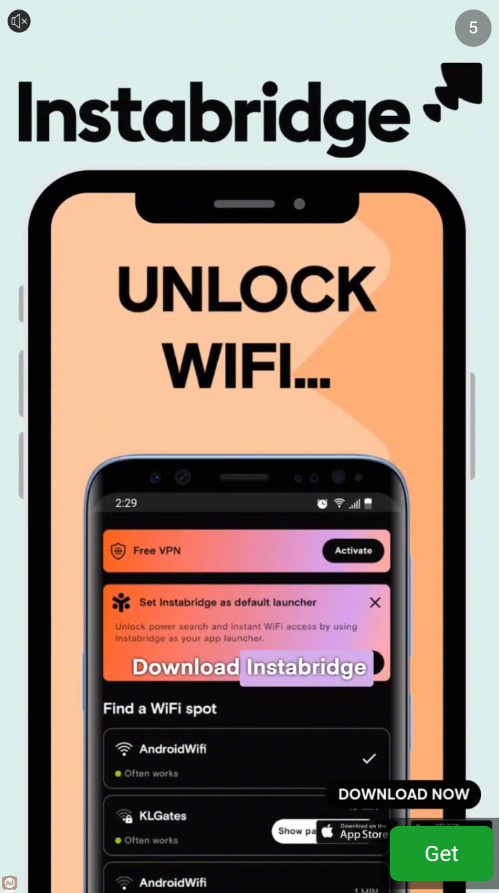glosnik: (8, 6, 31, 31)
